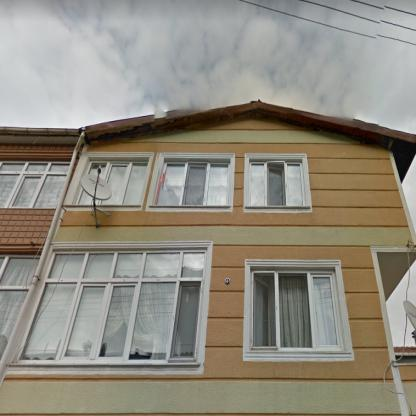window: (20, 251, 204, 359), (254, 272, 339, 347), (0, 256, 39, 356), (0, 163, 69, 206), (158, 163, 228, 204), (87, 160, 147, 202), (250, 162, 304, 204)
